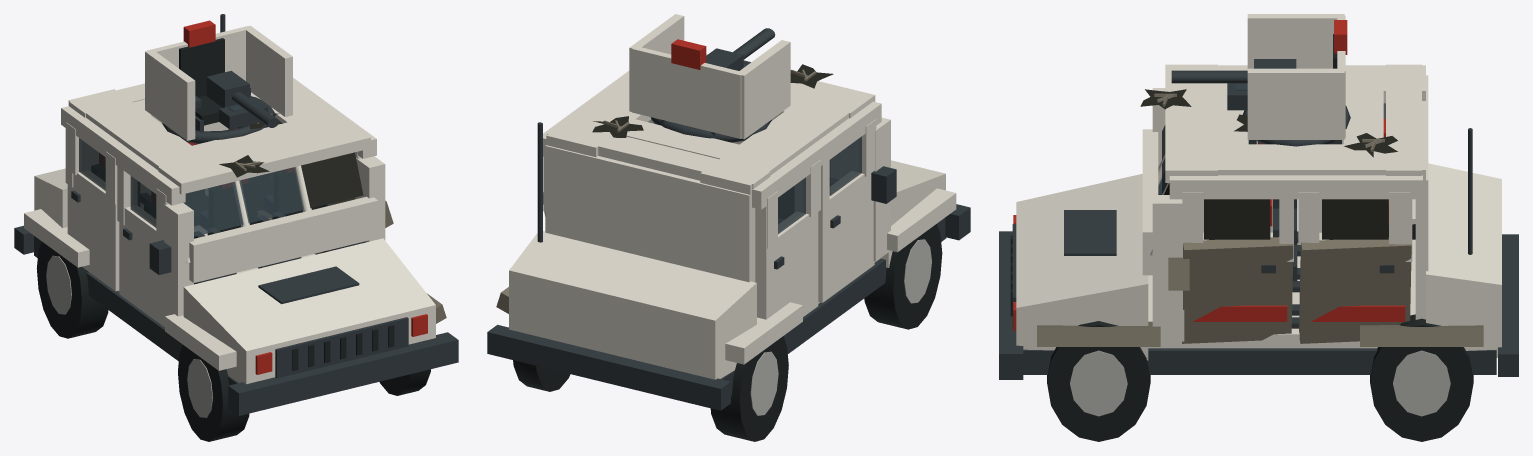
The picture shows the model from 3 angles, left to right: view 1: azimuth 30°, elevation 25°; view 2: azimuth 150°, elevation 25°; view 3: azimuth 270°, elevation 25°; orthographic projection. The views are drawn at different scales.
Visible parts, largest first — view 1: humvee-damaged-fleet-armor, humvee-damaged-fleet-machine, turret-fleet-armor, humvee-damaged-fleet-glass, crew-chair-gunner-painted, wheel--1--1.54-fleet-rubber, humvee-damaged-fleet-damage-charred, wheel--1-1.52-fleet-rubber, crew-chair-front-center-painted, barrel-fleet-machine, crew-chair-passenger-painted, wheel--1-1.52-fleet-edge (+8 smaller); view 2: humvee-damaged-fleet-armor, humvee-damaged-fleet-machine, turret-fleet-armor, wheel--1-1.52-fleet-rubber, wheel--1--1.54-fleet-rubber, humvee-damaged-fleet-glass, wheel--1-1.52-fleet-edge, wheel--1--1.54-fleet-edge, barrel-fleet-machine, wheel-1--1.54-fleet-rubber, humvee-damaged-fleet-damage-charred, crew-chair-gunner-painted (+2 smaller); view 3: humvee-damaged-fleet-armor, humvee-damaged-fleet-damage-metal, humvee-damaged-fleet-machine, turret-fleet-armor, humvee-damaged-fleet-damage-charred, wheel-1--1.54-fleet-rubber, wheel-1-1.52-fleet-rubber, wheel-1--1.54-fleet-edge, wheel-1-1.52-fleet-edge, humvee-damaged-fleet-red, barrel-fleet-machine, crew-chair-gunner-painted (+1 smaller).
Part boxes in pixels (bbox=[...]): humvee-damaged-fleet-armor: bbox=[24, 78, 435, 384]; humvee-damaged-fleet-machine: bbox=[14, 14, 458, 415]; turret-fleet-armor: bbox=[145, 25, 292, 140]; humvee-damaged-fleet-glass: bbox=[79, 138, 303, 236]; crew-chair-gunner-painted: bbox=[179, 20, 268, 131]; wheel--1--1.54-fleet-rubber: bbox=[36, 241, 108, 338]; humvee-damaged-fleet-damage-charred: bbox=[219, 113, 363, 207]; wheel--1-1.52-fleet-rubber: bbox=[178, 345, 249, 441]; crew-chair-front-center-painted: bbox=[207, 178, 300, 273]; barrel-fleet-machine: bbox=[206, 70, 278, 127]; crew-chair-passenger-painted: bbox=[272, 168, 365, 257]; wheel--1-1.52-fleet-edge: bbox=[187, 359, 212, 417]; humvee-damaged-fleet-armor: bbox=[509, 54, 956, 379]; humvee-damaged-fleet-machine: bbox=[487, 122, 970, 410]; turret-fleet-armor: bbox=[629, 14, 790, 139]; wheel--1-1.52-fleet-rubber: bbox=[864, 224, 942, 329]; wheel--1--1.54-fleet-rubber: bbox=[710, 336, 788, 441]; humvee-damaged-fleet-glass: bbox=[778, 136, 861, 233]; wheel--1-1.52-fleet-edge: bbox=[904, 239, 931, 303]; wheel--1--1.54-fleet-edge: bbox=[750, 351, 778, 415]; barrel-fleet-machine: bbox=[706, 28, 775, 70]; wheel-1--1.54-fleet-rubber: bbox=[513, 360, 570, 391]; humvee-damaged-fleet-damage-charred: bbox=[592, 64, 833, 137]; crew-chair-gunner-painted: bbox=[661, 39, 750, 135]; humvee-damaged-fleet-armor: bbox=[1016, 64, 1501, 360]; humvee-damaged-fleet-damage-metal: bbox=[1037, 93, 1483, 346]; humvee-damaged-fleet-machine: bbox=[999, 128, 1518, 379]; turret-fleet-armor: bbox=[1247, 14, 1345, 139]; humvee-damaged-fleet-damage-charred: bbox=[1140, 89, 1397, 239]; wheel-1--1.54-fleet-rubber: bbox=[1370, 314, 1473, 441]; wheel-1-1.52-fleet-rubber: bbox=[1047, 321, 1150, 441]; wheel-1--1.54-fleet-edge: bbox=[1393, 350, 1450, 416]; wheel-1-1.52-fleet-edge: bbox=[1070, 350, 1127, 416]; humvee-damaged-fleet-red: bbox=[1013, 215, 1405, 331]; barrel-fleet-machine: bbox=[1171, 59, 1296, 83]; crew-chair-gunner-painted: bbox=[1227, 20, 1347, 144].
Size of the model in its own units: 16.03 by 20.28 by 26.84.
